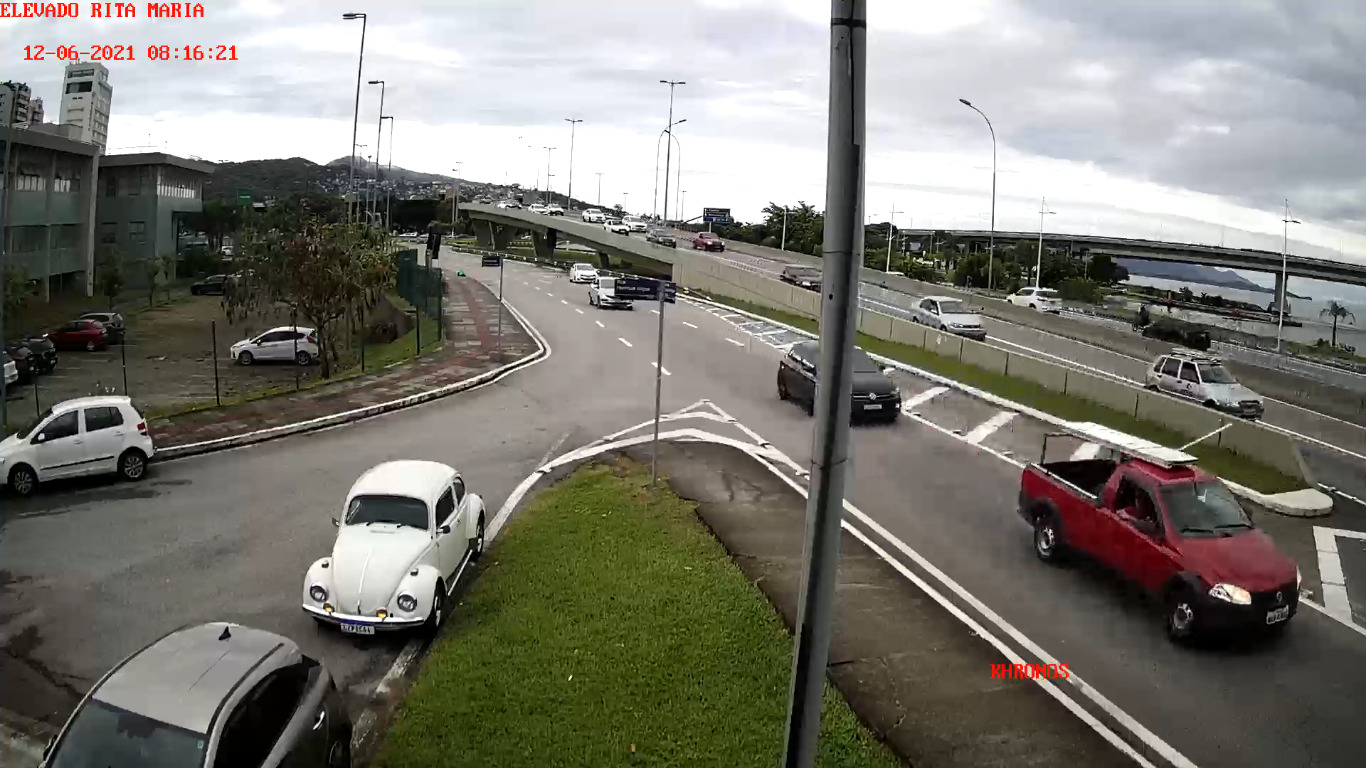car: (1016, 449, 1303, 654), (301, 457, 486, 636), (1, 394, 157, 498)
